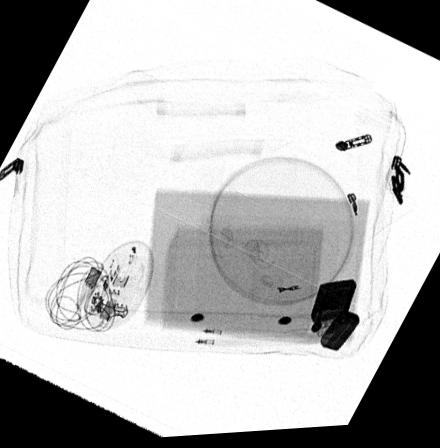Lighter: (310, 284, 360, 358)
